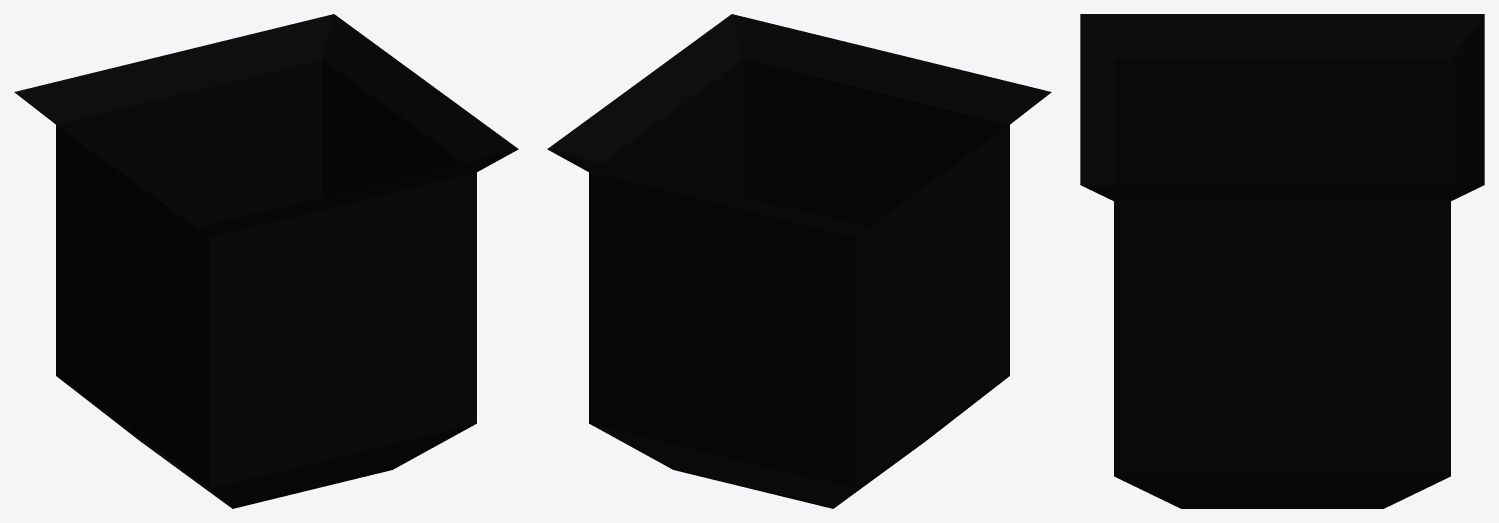
File: work_blaze_flame.obj
3 views of the same model, side by side, from view 1: azimuth 30°, elevation 25°; view 2: azimuth 150°, elevation 25°; view 3: azimuth 270°, elevation 25° (orthographic). The views are drawn at different scales.
Parts seen in each view (by area): view 1: work_blaze_flame; view 2: work_blaze_flame; view 3: work_blaze_flame.
Boxes of the visible parts, x1,y1,x2,y2 form: work_blaze_flame: [14, 14, 518, 508]; work_blaze_flame: [547, 14, 1051, 508]; work_blaze_flame: [1080, 14, 1484, 508].
Size of the model in its own units: 0.75 by 0.75 by 0.75.
